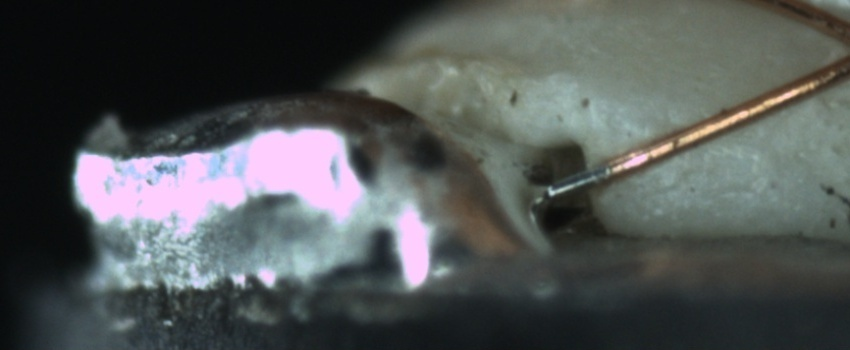CL: (810, 9, 850, 84)
TS: (544, 166, 610, 198)
